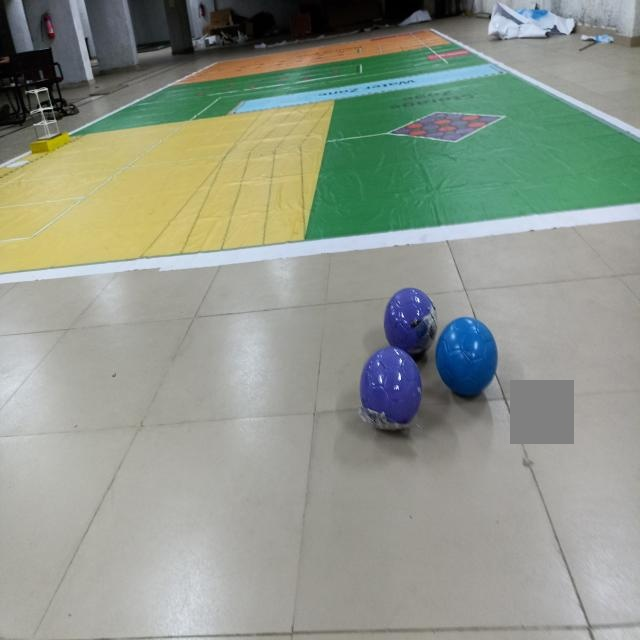blue_ball: (440, 318, 494, 396)
purple_ball: (362, 352, 420, 426), (388, 291, 433, 350)
